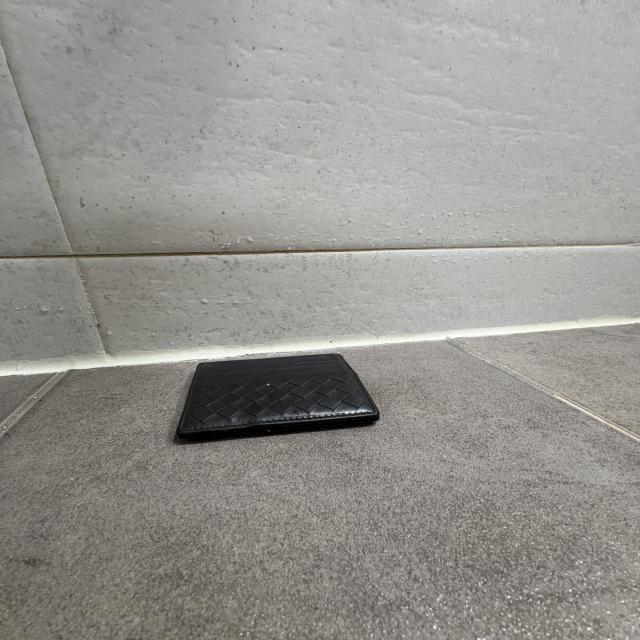wallet: (174, 354, 378, 446)
